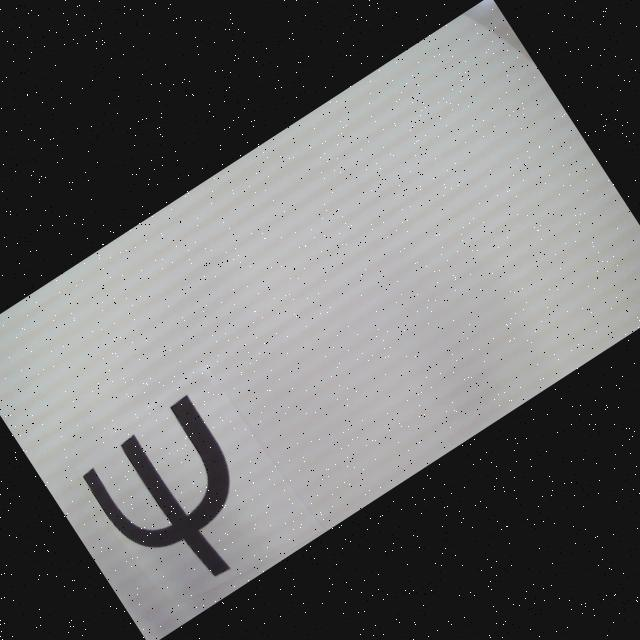PSI: (75, 394, 278, 608)
